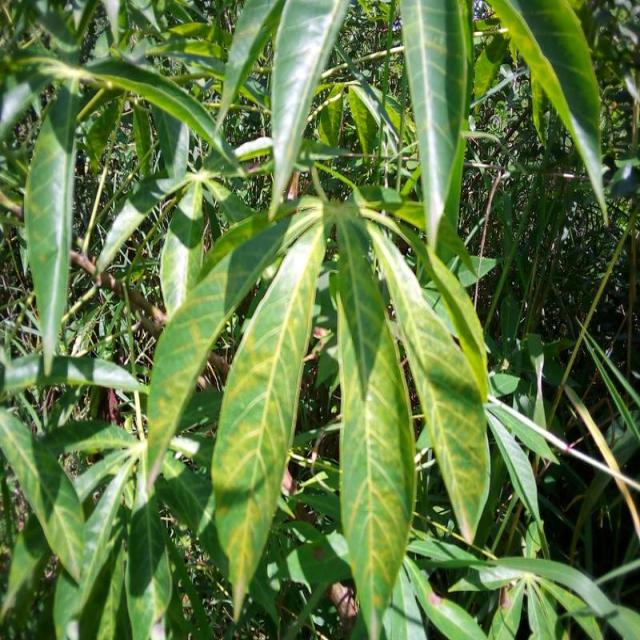cassava leaf: (210, 212, 330, 623), (364, 211, 493, 546), (332, 202, 418, 636), (488, 0, 610, 226), (400, 0, 474, 259), (24, 76, 83, 375)
